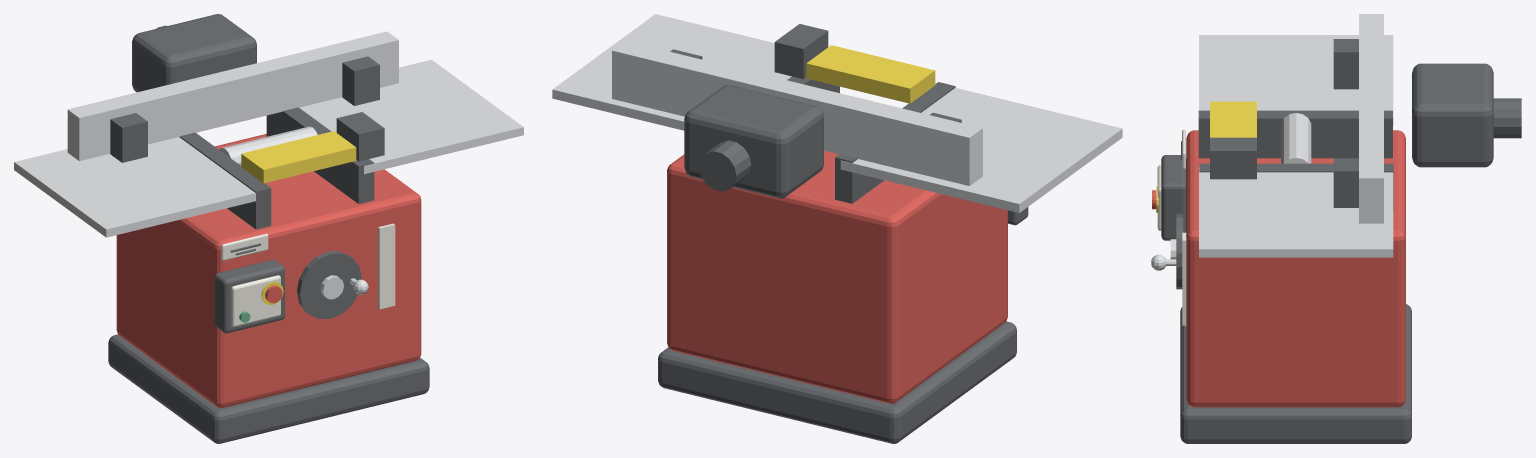
Rendered from woodworking-workshop-and-joinery-woodworking-workshop--73b761d2__34240.glb.
The picture shows the model from 3 angles, left to right: view 1: azimuth 30°, elevation 25°; view 2: azimuth 150°, elevation 25°; view 3: azimuth 270°, elevation 25°; orthographic projection. The views are drawn at different scales.
Visible parts, largest first — view 1: woodworking-workshop-and-joinery-planer-thicknesser; view 2: woodworking-workshop-and-joinery-planer-thicknesser; view 3: woodworking-workshop-and-joinery-planer-thicknesser.
Boxes of the visible parts, x1,y1,x2,y2 form: woodworking-workshop-and-joinery-planer-thicknesser: [14, 14, 523, 443]; woodworking-workshop-and-joinery-planer-thicknesser: [552, 14, 1122, 443]; woodworking-workshop-and-joinery-planer-thicknesser: [1151, 14, 1521, 443].
Bounding box in the file's own units: 1.62 × 1.08 × 1.18.
